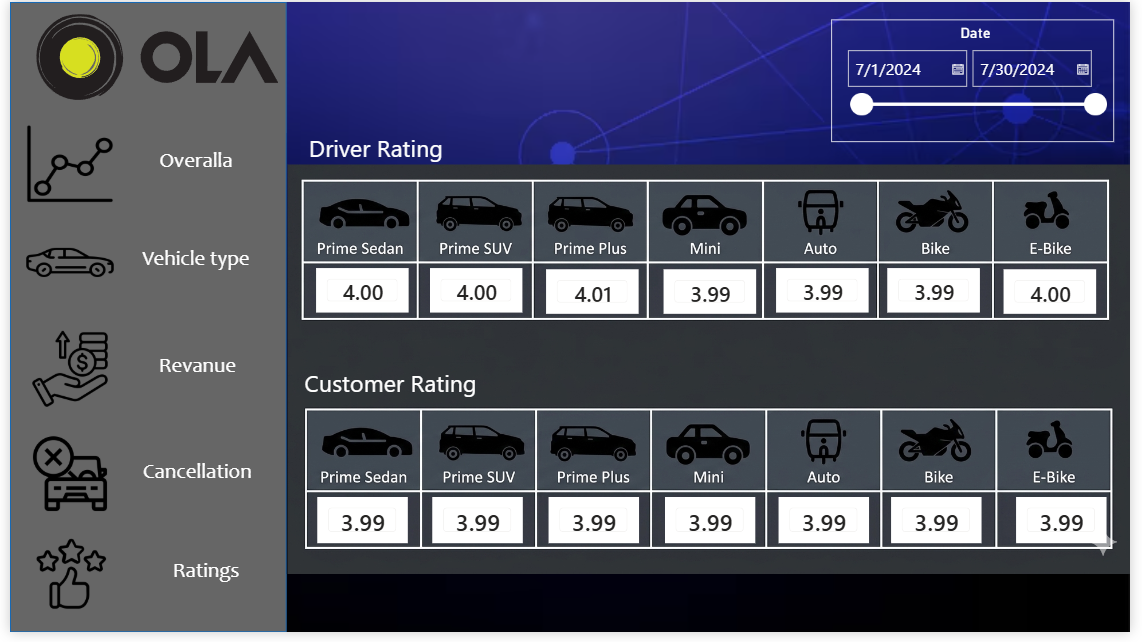

The page's visual inventory and layout, read from the dashboard file:
{"tool":"powerbi","page":{"name":"Ratings","canvas":[1280,720],"ordinal":4},"visuals":[{"type":"shape","box":[0,0,316.1,720.2],"z":0},{"type":"image","box":[10,10,317,107],"z":1000},{"type":"image","box":[18.1,139.9,100.1,89.3],"z":2000},{"type":"textbox","box":[130.3,160.5,165.3,49.5],"z":3000},{"type":"image","box":[18.1,252.1,100.1,89.3],"z":4000},{"type":"image","box":[18.1,374,100.1,89.3],"z":5000},{"type":"image","box":[18.1,494.6,100.1,89.3],"z":6000},{"type":"image","box":[19.3,608,100.1,89.3],"z":7000},{"type":"textbox","box":[130.3,272.7,165.3,49.5],"z":8000},{"type":"textbox","box":[131.5,394.5,165.3,49.5],"z":9000},{"type":"textbox","box":[131.5,515.2,165.3,49.5],"z":10000},{"type":"textbox","box":[141.2,628.6,165.3,49.5],"z":11000},{"type":"actionButton","box":[0,252.5,317,102.9],"z":12000},{"type":"actionButton","box":[0,133.1,317,102.9],"z":13000},{"type":"actionButton","box":[0,360.9,317,102.9],"z":14000},{"type":"actionButton","box":[0,487.1,317,102.9],"z":15000},{"type":"actionButton","box":[0,601,317,102.9],"z":16000},{"type":"image","box":[317,185.2,963.3,467.9],"z":17000},{"type":"cardVisual","fields":{"Data":["Avg(Sheet1.Driver_Ratings)"]},"box":[349.9,304.6,105.7,50.8],"z":18000},{"type":"cardVisual","fields":{"Data":["Avg(Sheet1.Driver_Ratings)"]},"box":[613.4,306,105.7,50.8],"z":19000},{"type":"cardVisual","fields":{"Data":["Avg(Sheet1.Driver_Ratings)"]},"box":[746.5,306,105.7,50.8],"z":20000},{"type":"cardVisual","fields":{"Data":["Avg(Sheet1.Driver_Ratings)"]},"box":[875.5,304.6,105.7,50.8],"z":21000},{"type":"cardVisual","fields":{"Data":["Avg(Sheet1.Driver_Ratings)"]},"box":[1003.1,304.6,105.7,50.8],"z":22000},{"type":"cardVisual","fields":{"Data":["Avg(Sheet1.Driver_Ratings)"]},"box":[1136.2,306,105.7,50.8],"z":23000},{"type":"cardVisual","fields":{"Data":["Avg(Sheet1.Driver_Ratings)"]},"box":[480.3,304.6,105.7,50.8],"z":24000},{"type":"cardVisual","fields":{"Data":["Avg(Sheet1.Customer_Rating)"]},"box":[351.7,565.8,102.9,52.8],"z":25000},{"type":"cardVisual","fields":{"Data":["Avg(Sheet1.Customer_Rating)"]},"box":[482.4,565.8,102.9,52.8],"z":26000},{"type":"cardVisual","fields":{"Data":["Avg(Sheet1.Customer_Rating)"]},"box":[615.8,565.8,102.9,52.8],"z":27000},{"type":"cardVisual","fields":{"Data":["Avg(Sheet1.Customer_Rating)"]},"box":[749.3,565.8,102.9,52.8],"z":28000},{"type":"cardVisual","fields":{"Data":["Avg(Sheet1.Customer_Rating)"]},"box":[878.5,565.8,102.9,52.8],"z":29000},{"type":"cardVisual","fields":{"Data":["Avg(Sheet1.Customer_Rating)"]},"box":[1006.4,565.8,102.9,52.8],"z":30000},{"type":"cardVisual","fields":{"Data":["Avg(Sheet1.Customer_Rating)"]},"box":[1149.6,565.8,102.9,52.8],"z":31000},{"type":"textbox","box":[326.8,417.4,220.8,46],"z":32000},{"type":"textbox","box":[326.9,148.4,182.2,36.2],"z":33000},{"type":"slicer","title":"Date","fields":{"Values":["Sheet1.Date"]},"box":[938.6,20.5,323.3,139.9],"z":34000}]}

Visuals, with their boxes in screenshot pixels (x1, y1, x2, y2), scaled from the page's 1280x720 canvas onto the 1142x642 screenshot:
shape: box=[0, 0, 282, 641]
image: box=[9, 9, 292, 104]
image: box=[16, 125, 105, 204]
textbox: box=[116, 143, 264, 187]
image: box=[16, 225, 105, 304]
image: box=[16, 333, 105, 413]
image: box=[16, 441, 105, 521]
image: box=[17, 542, 107, 622]
textbox: box=[116, 243, 264, 287]
textbox: box=[117, 352, 265, 396]
textbox: box=[117, 459, 265, 504]
textbox: box=[126, 561, 273, 605]
actionButton: box=[0, 225, 283, 317]
actionButton: box=[0, 119, 283, 210]
actionButton: box=[0, 322, 283, 414]
actionButton: box=[0, 434, 283, 526]
actionButton: box=[0, 536, 283, 628]
image: box=[283, 165, 1141, 582]
cardVisual - Avg(Sheet1.Driver_Ratings): box=[312, 272, 406, 317]
cardVisual - Avg(Sheet1.Driver_Ratings): box=[547, 273, 642, 318]
cardVisual - Avg(Sheet1.Driver_Ratings): box=[666, 273, 760, 318]
cardVisual - Avg(Sheet1.Driver_Ratings): box=[781, 272, 875, 317]
cardVisual - Avg(Sheet1.Driver_Ratings): box=[895, 272, 989, 317]
cardVisual - Avg(Sheet1.Driver_Ratings): box=[1014, 273, 1108, 318]
cardVisual - Avg(Sheet1.Driver_Ratings): box=[429, 272, 523, 317]
cardVisual - Avg(Sheet1.Customer_Rating): box=[314, 505, 406, 552]
cardVisual - Avg(Sheet1.Customer_Rating): box=[430, 505, 522, 552]
cardVisual - Avg(Sheet1.Customer_Rating): box=[549, 505, 641, 552]
cardVisual - Avg(Sheet1.Customer_Rating): box=[669, 505, 760, 552]
cardVisual - Avg(Sheet1.Customer_Rating): box=[784, 505, 876, 552]
cardVisual - Avg(Sheet1.Customer_Rating): box=[898, 505, 990, 552]
cardVisual - Avg(Sheet1.Customer_Rating): box=[1026, 505, 1117, 552]
textbox: box=[292, 372, 489, 413]
textbox: box=[292, 132, 454, 165]
"Date" slicer: box=[837, 18, 1126, 143]
